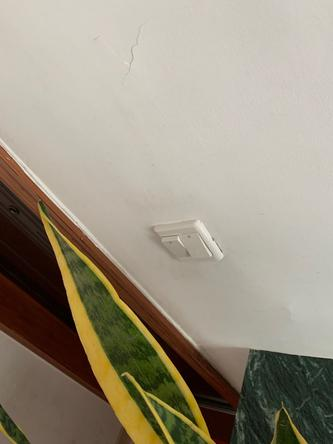switch: (178, 231, 217, 260), (160, 234, 188, 260)
